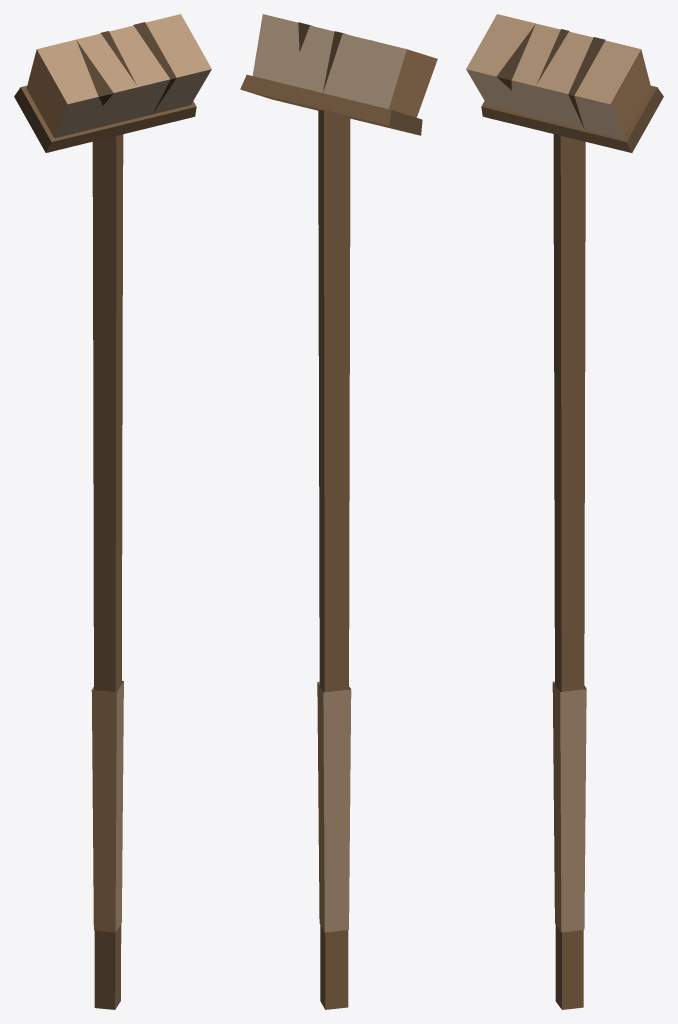
File: Item_FloorBrush00.FBX
The picture shows the model from 3 angles, left to right: view 1: azimuth 30°, elevation 25°; view 2: azimuth 150°, elevation 25°; view 3: azimuth 330°, elevation 25°; orthographic projection.
Visible parts, largest first — view 1: Item_FloorBrush00; view 2: Item_FloorBrush00; view 3: Item_FloorBrush00.
Part boxes in pixels (x1=…): Item_FloorBrush00: x1=14, y1=14, x2=211, y2=1009; Item_FloorBrush00: x1=240, y1=14, x2=437, y2=1009; Item_FloorBrush00: x1=466, y1=14, x2=663, y2=1009.
Bounding box in the file's own units: 19.45 × 121 × 11.61.
